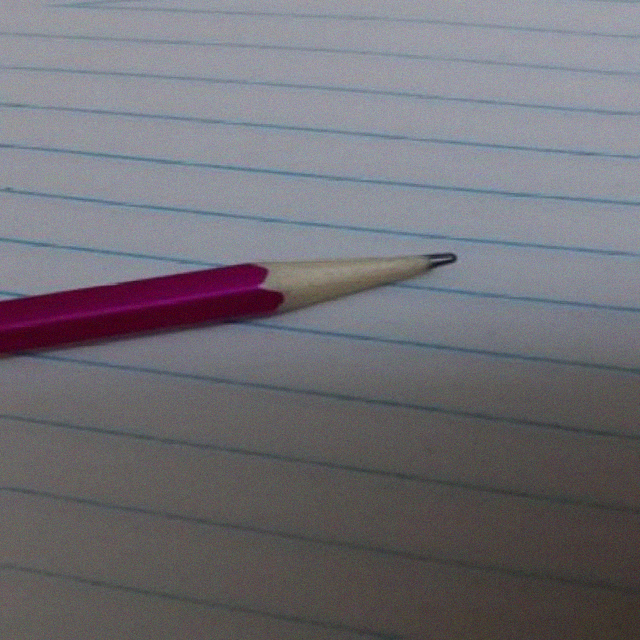pencil: (240, 240, 456, 304)
